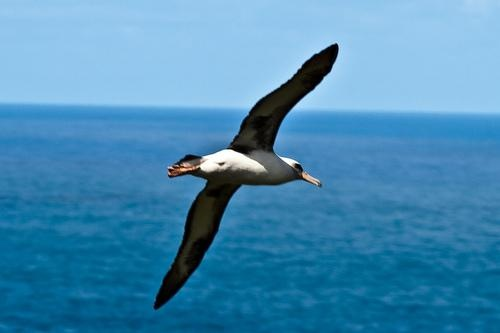bird: (152, 41, 341, 309)
